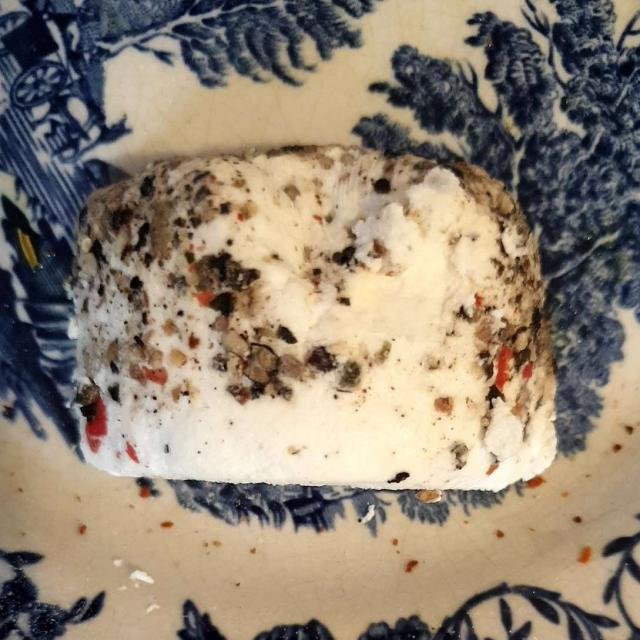goat-cheese-soft: (77, 148, 552, 484)
